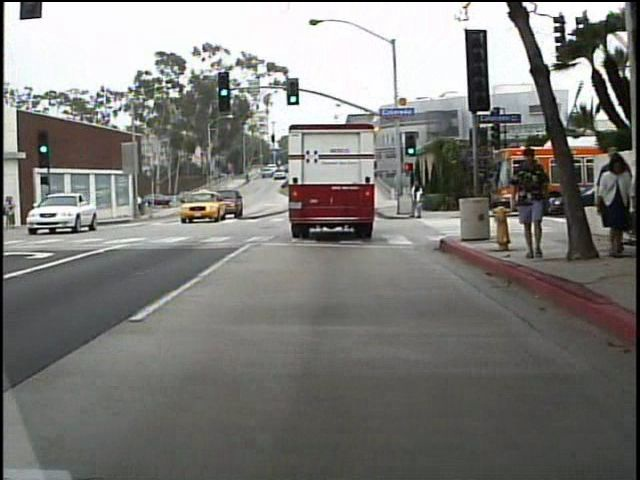person: (520, 141, 563, 266), (591, 153, 628, 257), (404, 176, 429, 222), (3, 191, 26, 238), (41, 189, 56, 229), (132, 187, 149, 220)
